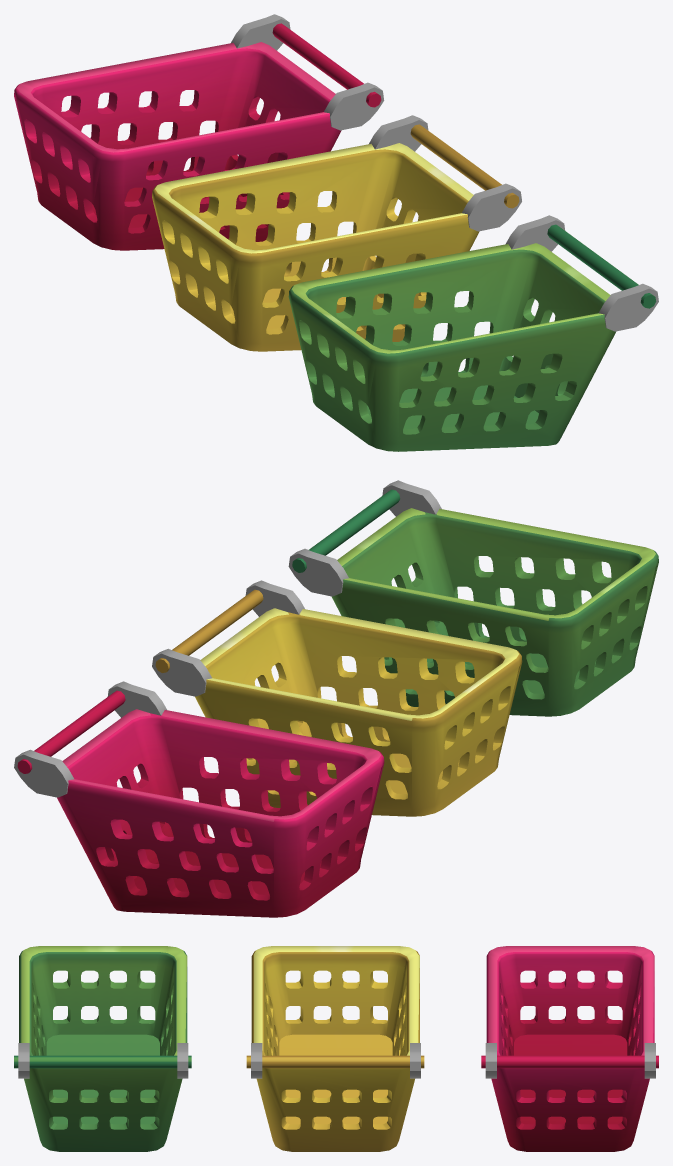
The model's file is Basket.FBX.
3 renders of one model, top to bottom at view 1: azimuth 30°, elevation 25°; view 2: azimuth 150°, elevation 25°; view 3: azimuth 270°, elevation 25°, orthographic. The views are drawn at different scales.
Visible parts, largest first — view 1: Basket_g001, Basket_r, Basket_y; view 2: Basket_r, Basket_y, Basket_g001; view 3: Basket_r, Basket_y, Basket_g001.
Boxes of the visible parts, x1=… form: Basket_g001: x1=288, y1=215, x2=658, y2=451; Basket_r: x1=14, y1=14, x2=384, y2=250; Basket_y: x1=152, y1=115, x2=521, y2=351; Basket_r: x1=14, y1=681, x2=384, y2=917; Basket_y: x1=152, y1=580, x2=522, y2=816; Basket_g001: x1=288, y1=480, x2=658, y2=716; Basket_r: x1=481, y1=946, x2=658, y2=1151; Basket_y: x1=246, y1=946, x2=424, y2=1151; Basket_g001: x1=14, y1=946, x2=191, y2=1151.
Size of the model in its own units: 36.73 by 18.75 by 86.36.
